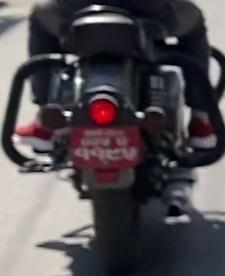license-plate: (73, 123, 140, 162)
